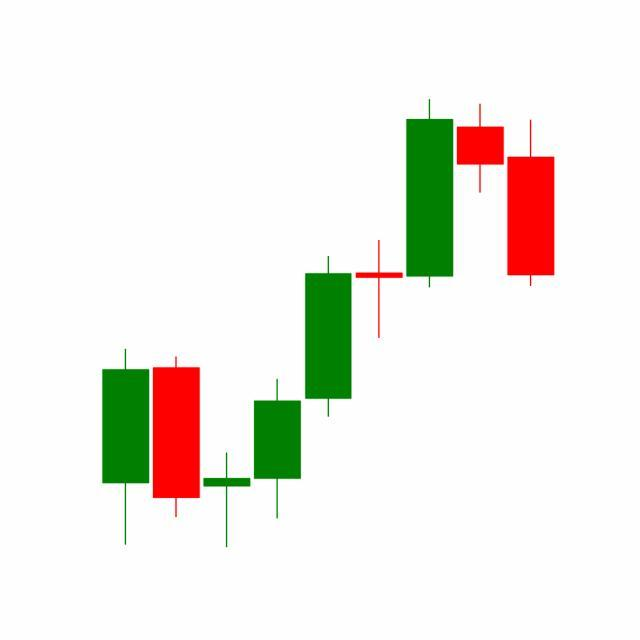Hikkake Pattern: (302, 100, 555, 422)
